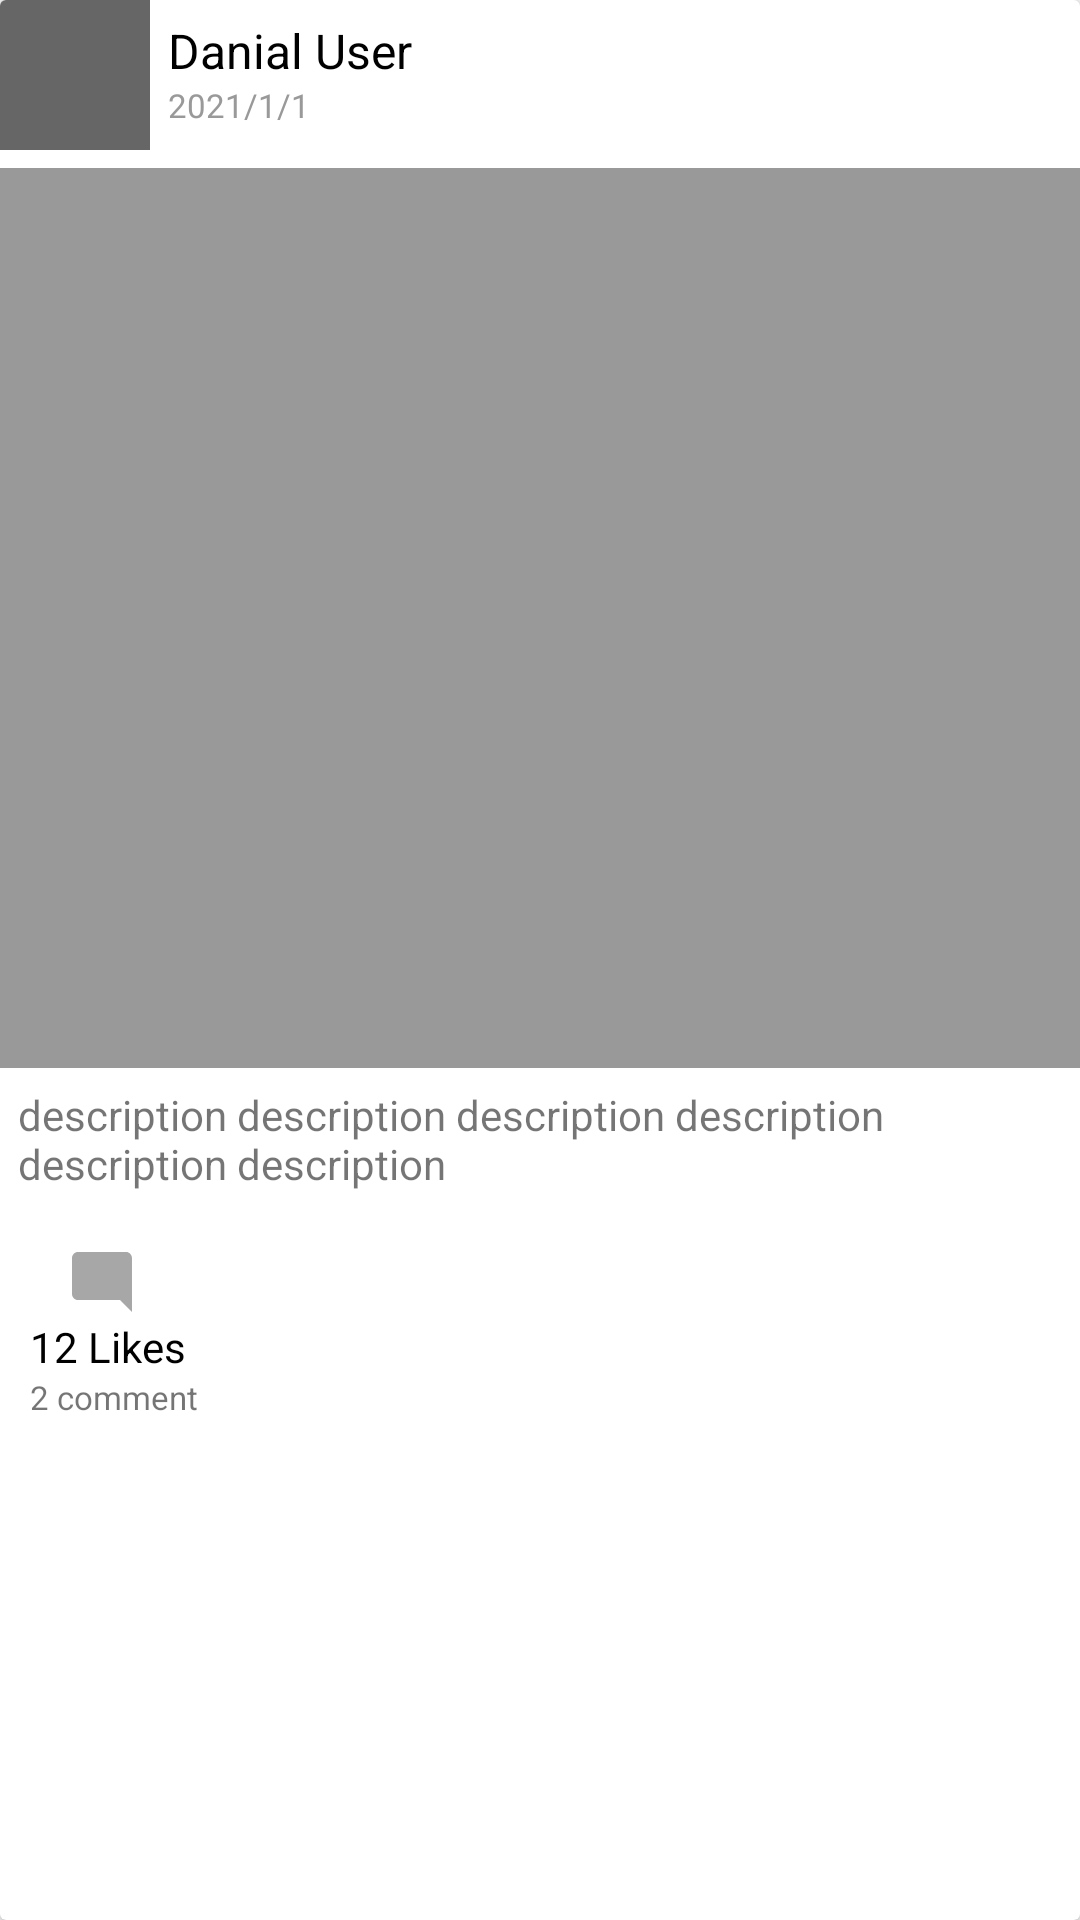

Named icons in this screenshot (1080 × 1920) and their bounding boxes, box=[x1, y1, x2, y2]:
mode comment: box=[72, 1252, 132, 1312]
